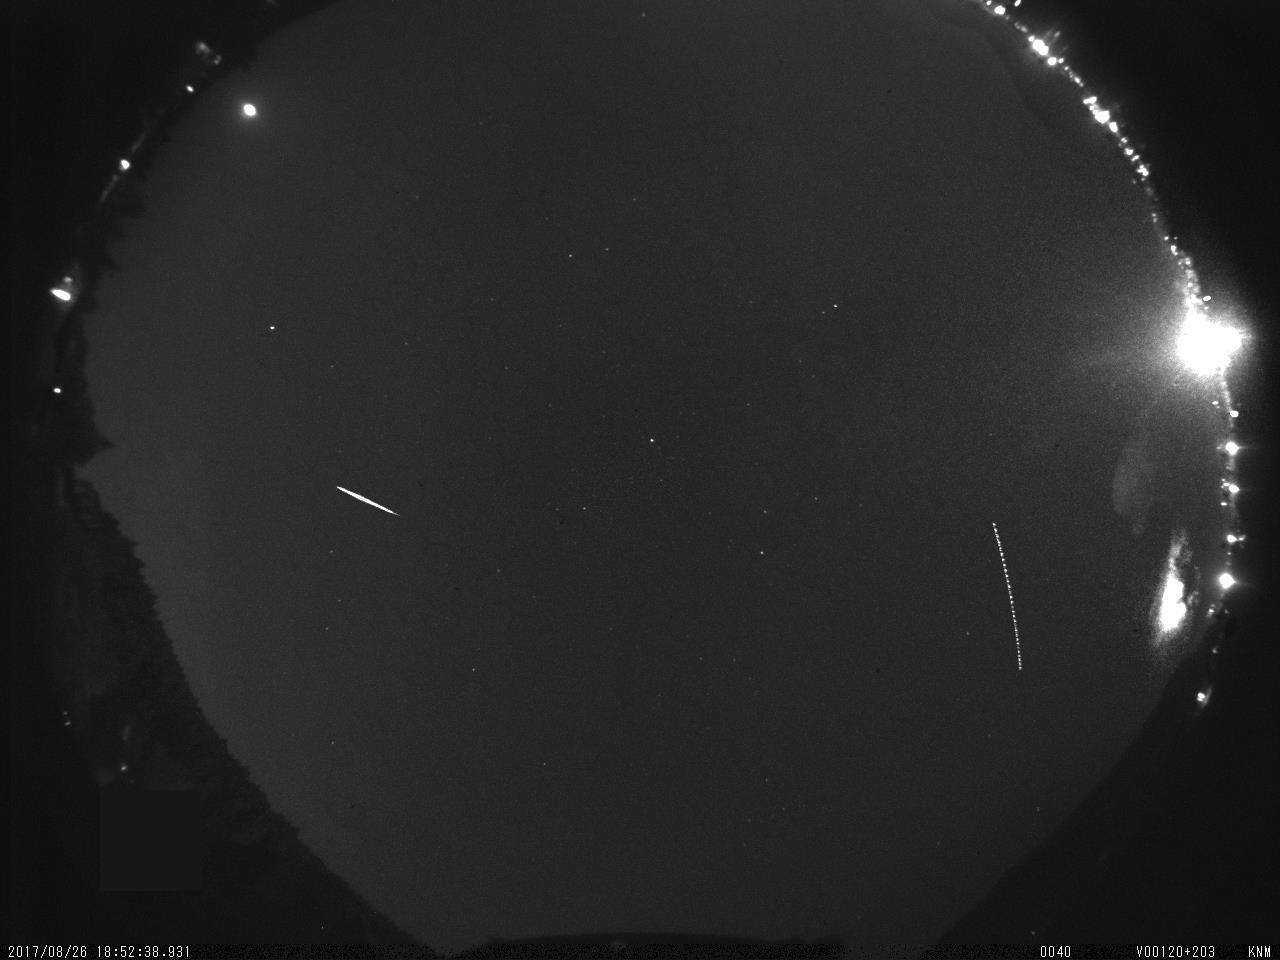meteor: (332, 478, 409, 523)
satelite: (985, 520, 1037, 683)
